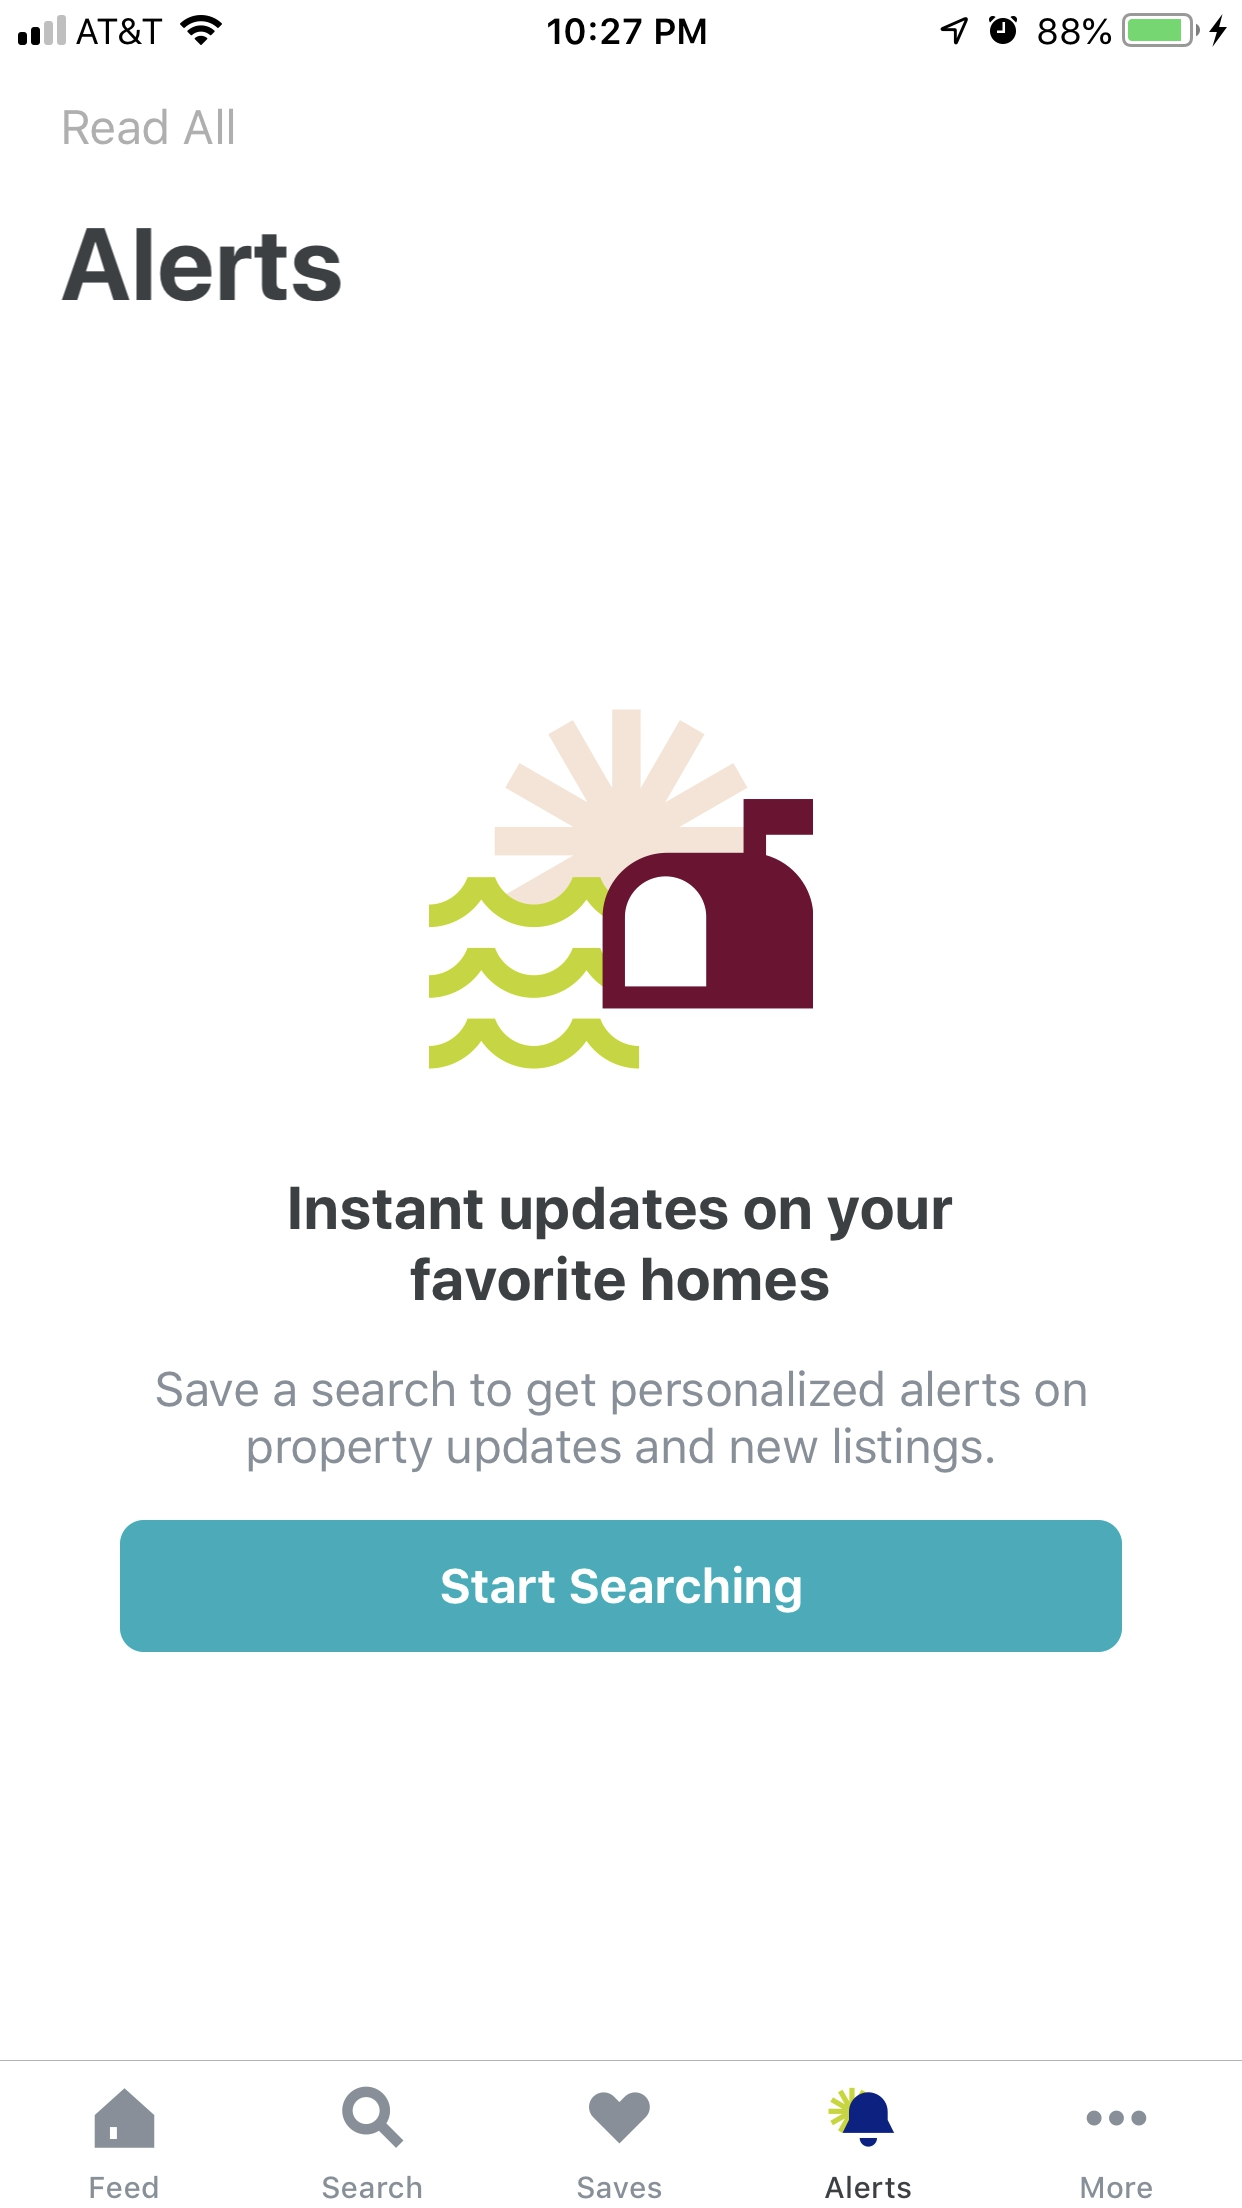Icon: (429, 710, 814, 1071), (828, 2087, 895, 2147), (343, 2087, 405, 2149), (96, 2087, 156, 2147), (588, 2091, 651, 2144), (1086, 2109, 1146, 2128)
Text: (158, 1369, 1087, 1474), (290, 1184, 952, 1303), (64, 231, 343, 305), (65, 109, 240, 149), (323, 2175, 423, 2199), (576, 2175, 663, 2199), (825, 2175, 911, 2199), (91, 2175, 159, 2199), (1081, 2176, 1153, 2199)
TextButton: (120, 1520, 1124, 1653)
UpperTaskBar: (2, 2, 1242, 49)
